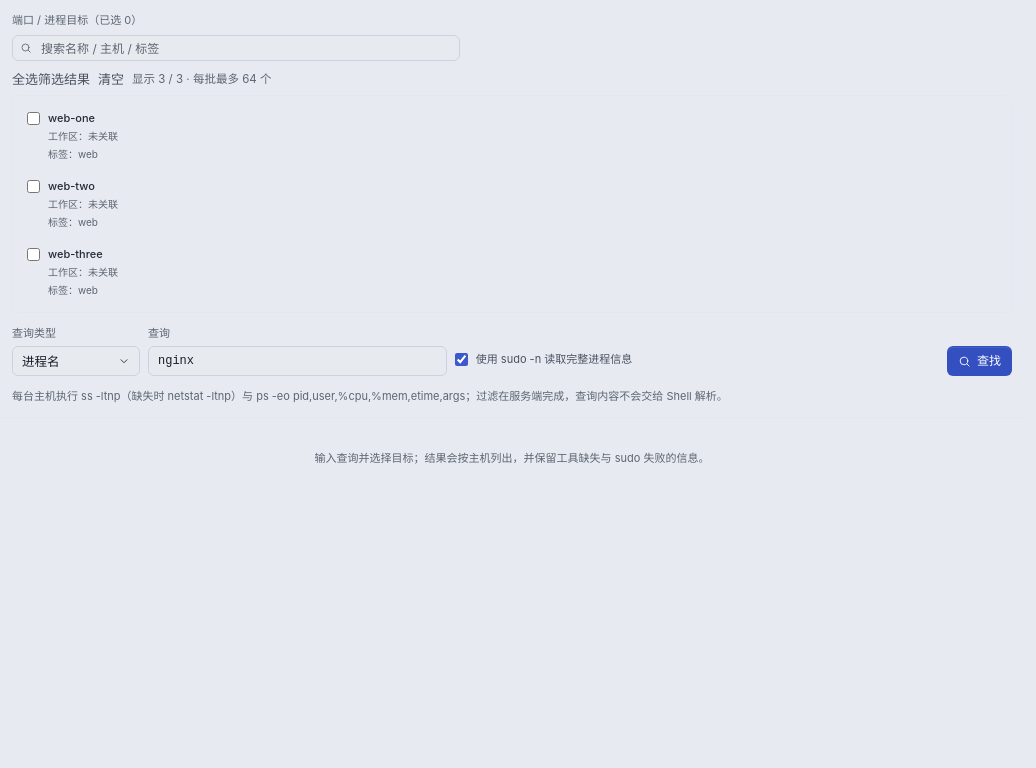
ProcessFinderPanel › shows host by match results and per-host tool failures
Click the checkbox labelled "web-one 工作区：未关联 标签：web" at (34, 119), box [27,112,40,125]
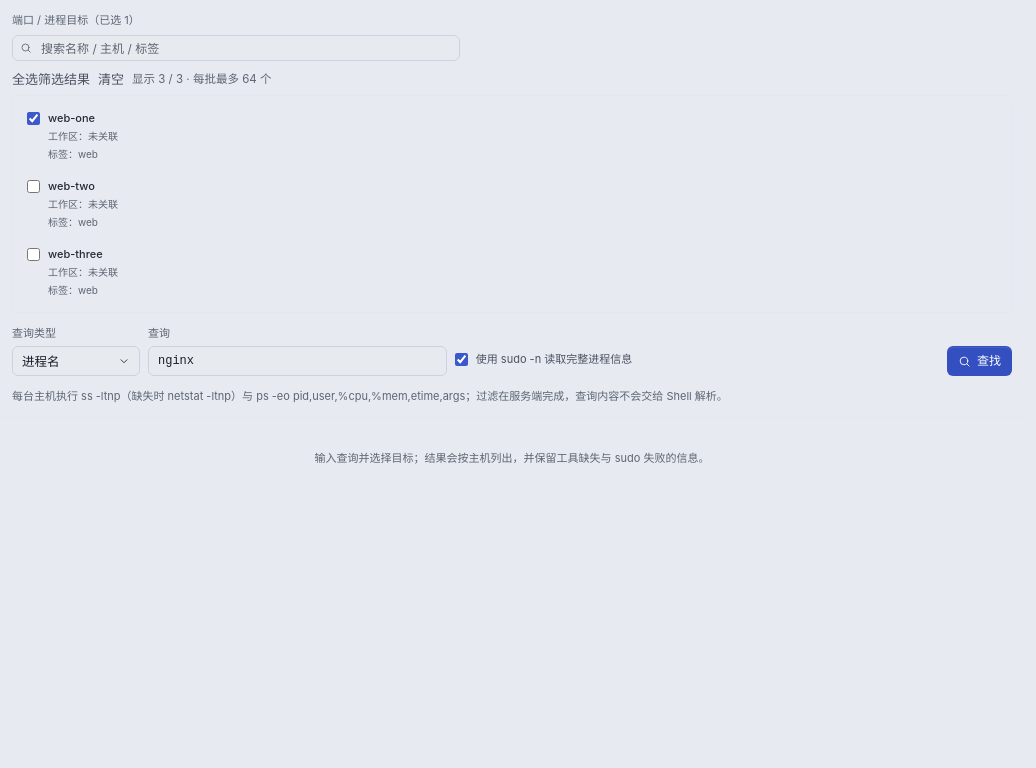
Click the checkbox labelled "web-two 工作区：未关联 标签：web" at (34, 187), box [27,180,40,193]
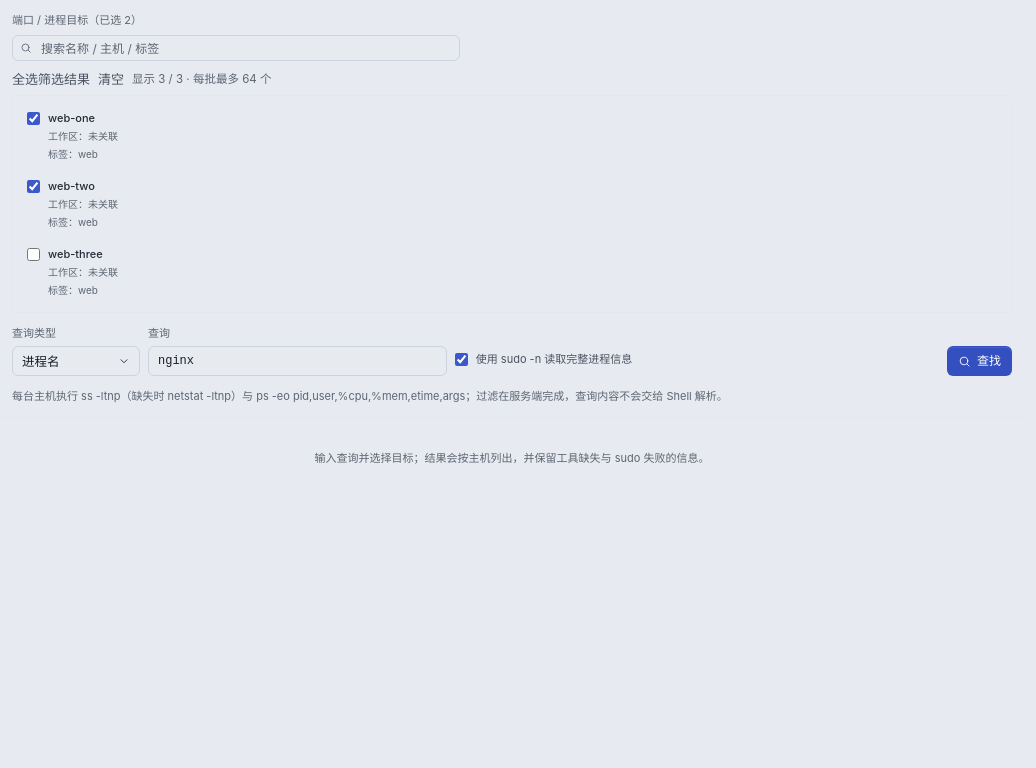
Click the button "查找" at (980, 361), box [947,346,1012,376]
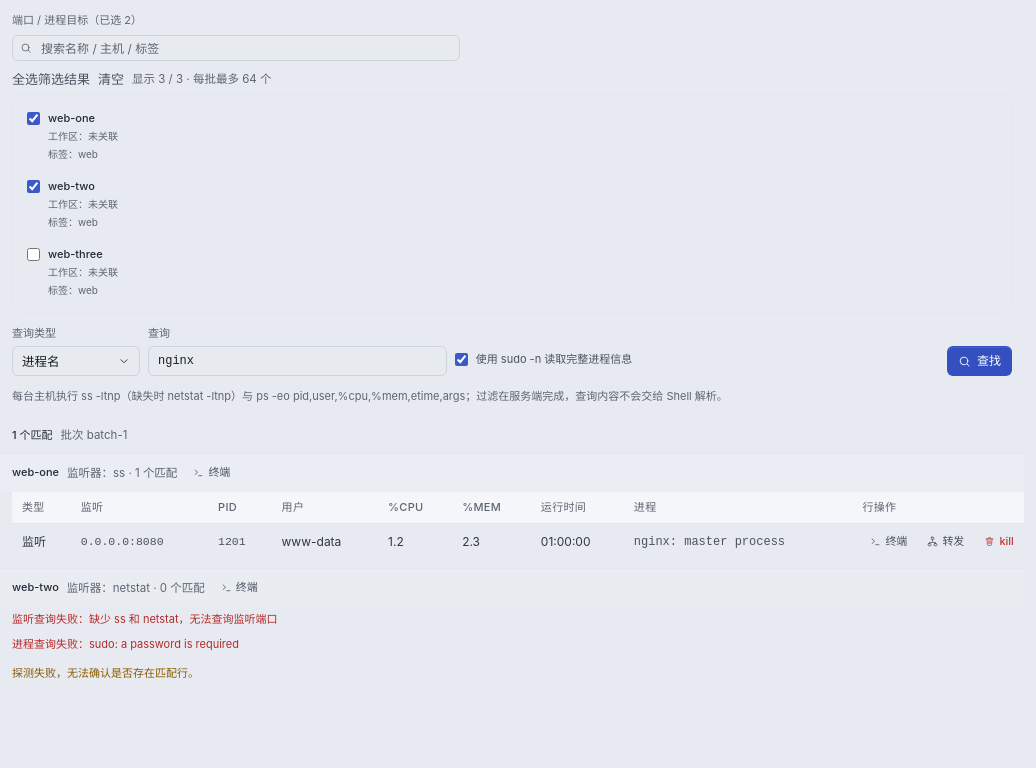
Result: the text "监听器：netstat" is shown at [67,579,205,597]
Result: the text "缺少 ss 和 netstat" is shown at [89,612,278,626]
Result: the text "sudo: a password is required" is shown at [89,637,239,651]
